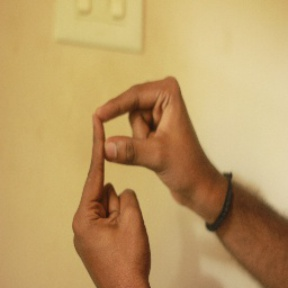P: (73, 77, 198, 244)
